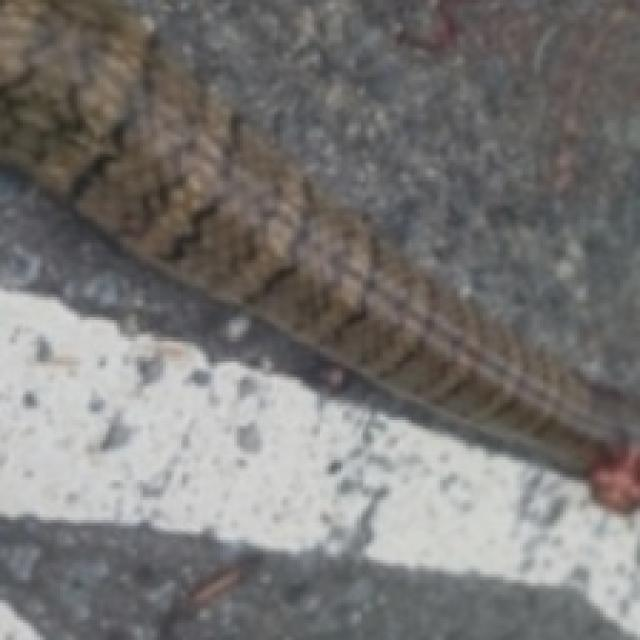king cobra: (0, 0, 637, 509), (0, 180, 637, 637), (0, 0, 143, 186), (157, 146, 283, 234)
